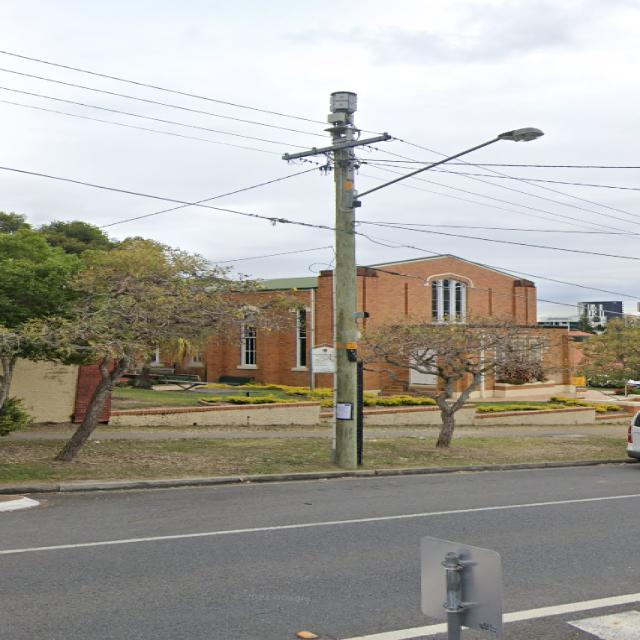crossarm: (280, 134, 392, 160)
small cell pole: (280, 89, 391, 470)
streetlight: (350, 128, 546, 198)
timber-pole: (331, 141, 361, 468)
